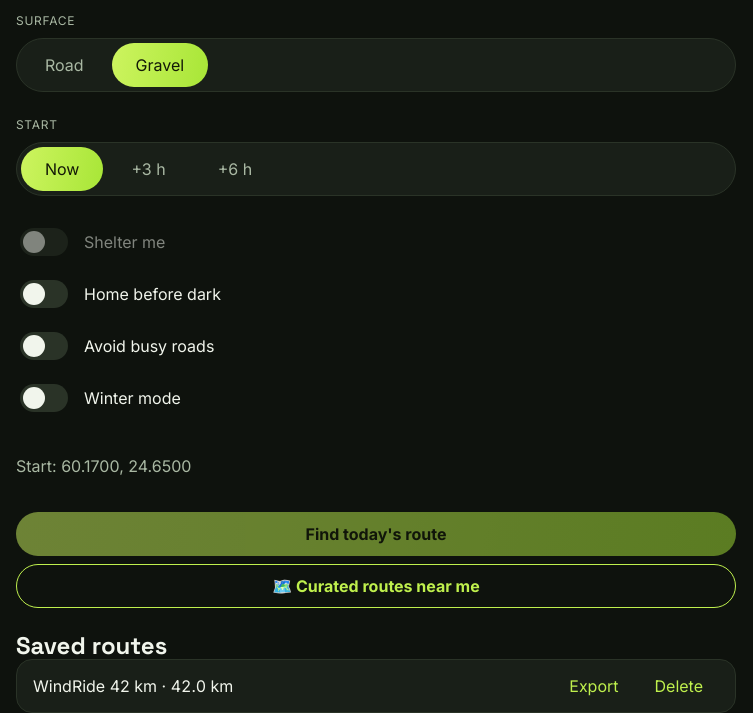
Test: <PlanScreen /> (mock pipeline) › lists a saved route and deletes it
(page scrolled)
Expected: the text "WindRide 42 km · 42.0 km" is shown, left=33, top=674, right=233, bottom=698
What coordinates should you click on to do the following:
click the button "Delete"
I would click on:
 (679, 686)
Its box is left=638, top=664, right=719, bottom=708.
(page scrolled)
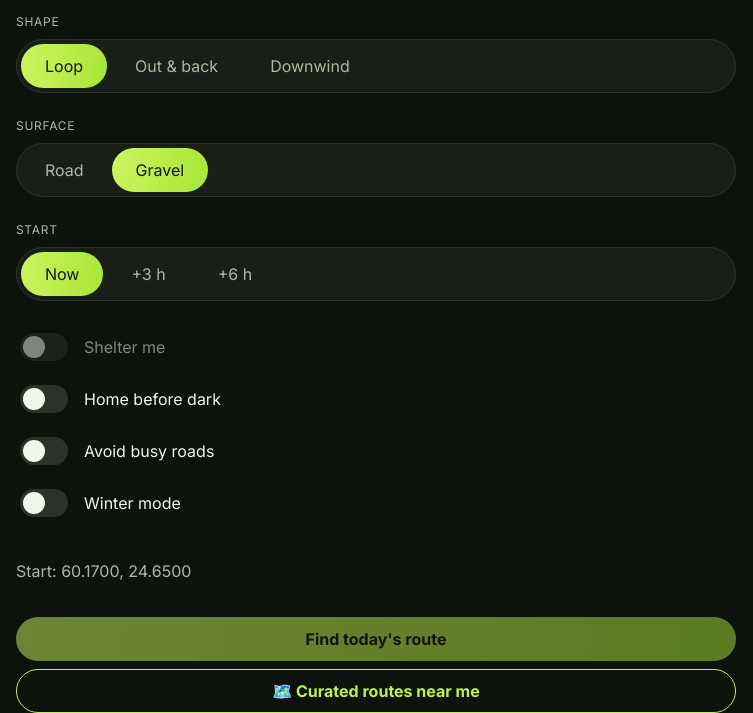
Expected: the text "WindRide 42 km" is gone
